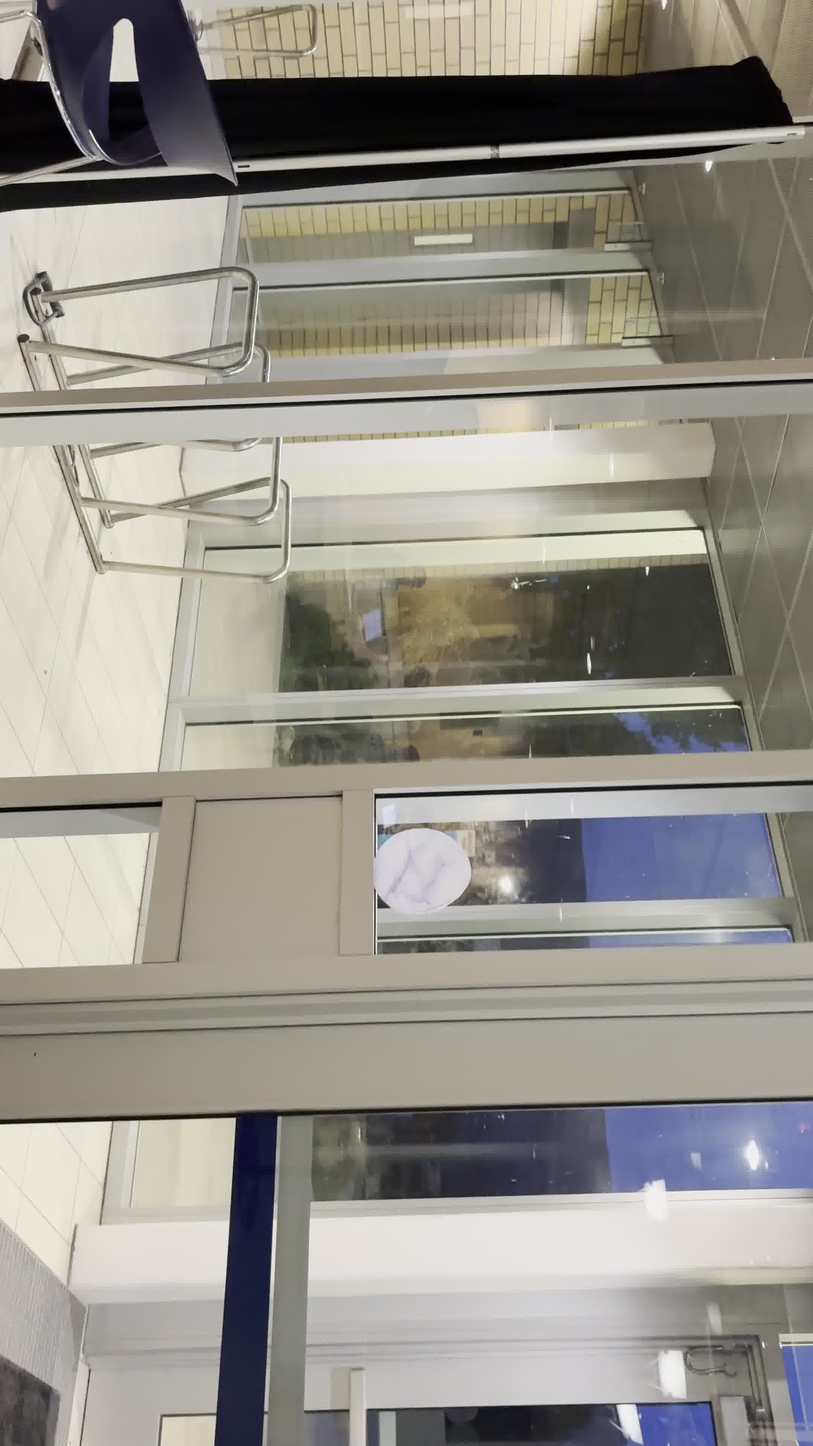Target: (372, 826, 473, 916)
